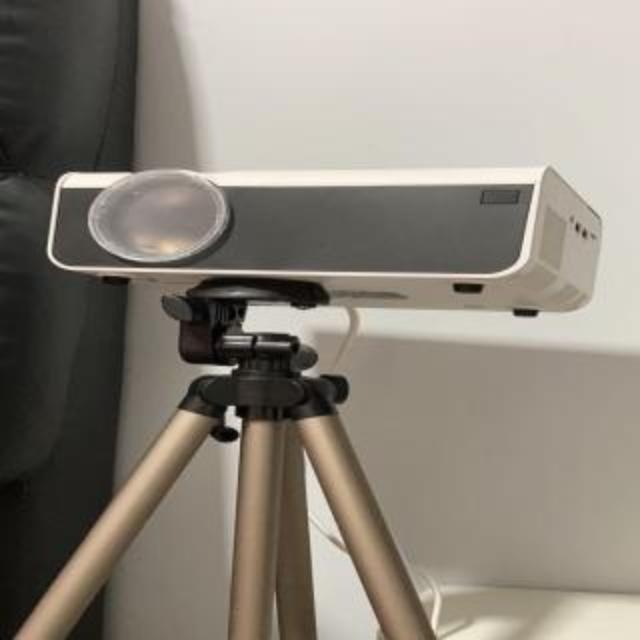Projector: (44, 168, 604, 320)
